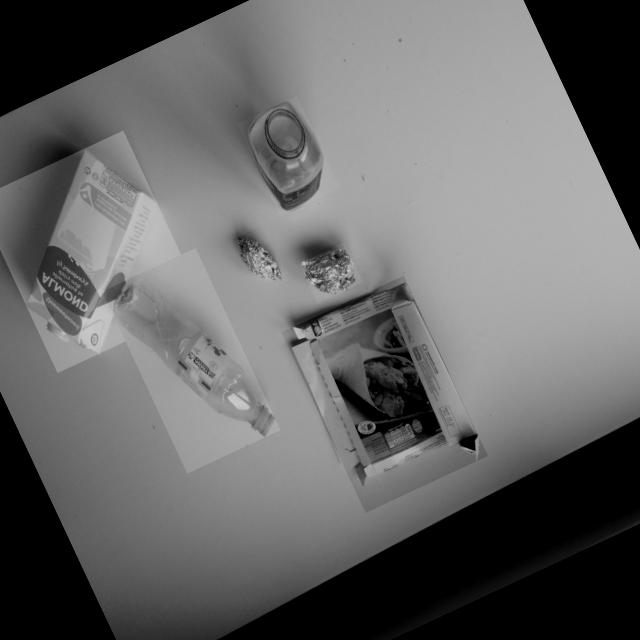Aluminium foil: (302, 249, 356, 295), (238, 238, 283, 281)
Clear plastic bottle: (113, 275, 275, 438), (248, 102, 324, 212)
Food Carton: (26, 149, 157, 354)
Other Carton: (291, 283, 478, 486)
